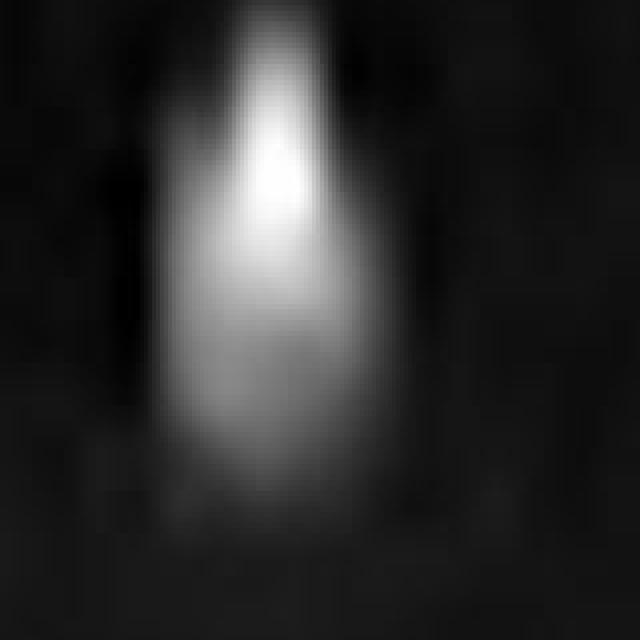person: (146, 3, 413, 555)
